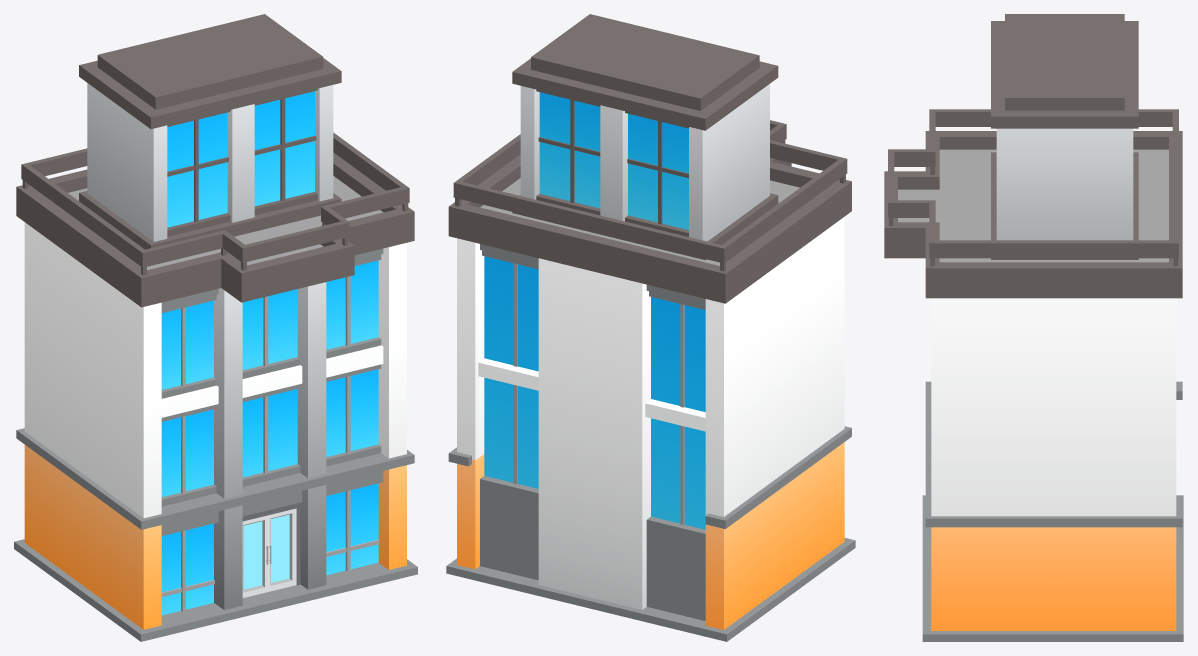
The model's file is Building_Hotel_04.glb.
The picture shows the model from 3 angles, left to right: view 1: azimuth 30°, elevation 25°; view 2: azimuth 150°, elevation 25°; view 3: azimuth 270°, elevation 25°; orthographic projection. The views are drawn at different scales.
Visible parts, largest first — view 1: Building_Hotel_04; view 2: Building_Hotel_04; view 3: Building_Hotel_04.
Part boxes in pixels (x1,y1,x2,y2): Building_Hotel_04: [14, 14, 417, 641]; Building_Hotel_04: [446, 14, 855, 641]; Building_Hotel_04: [884, 14, 1183, 641].
Bounding box in the file's own units: 8.22 × 14.23 × 7.48.
Materials: 1 (1 with a texture image).
